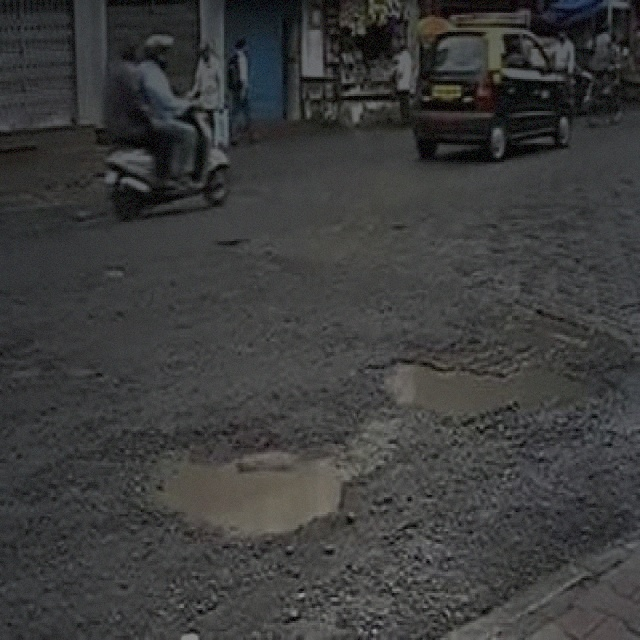pothole: (141, 427, 355, 531), (366, 350, 616, 414)
